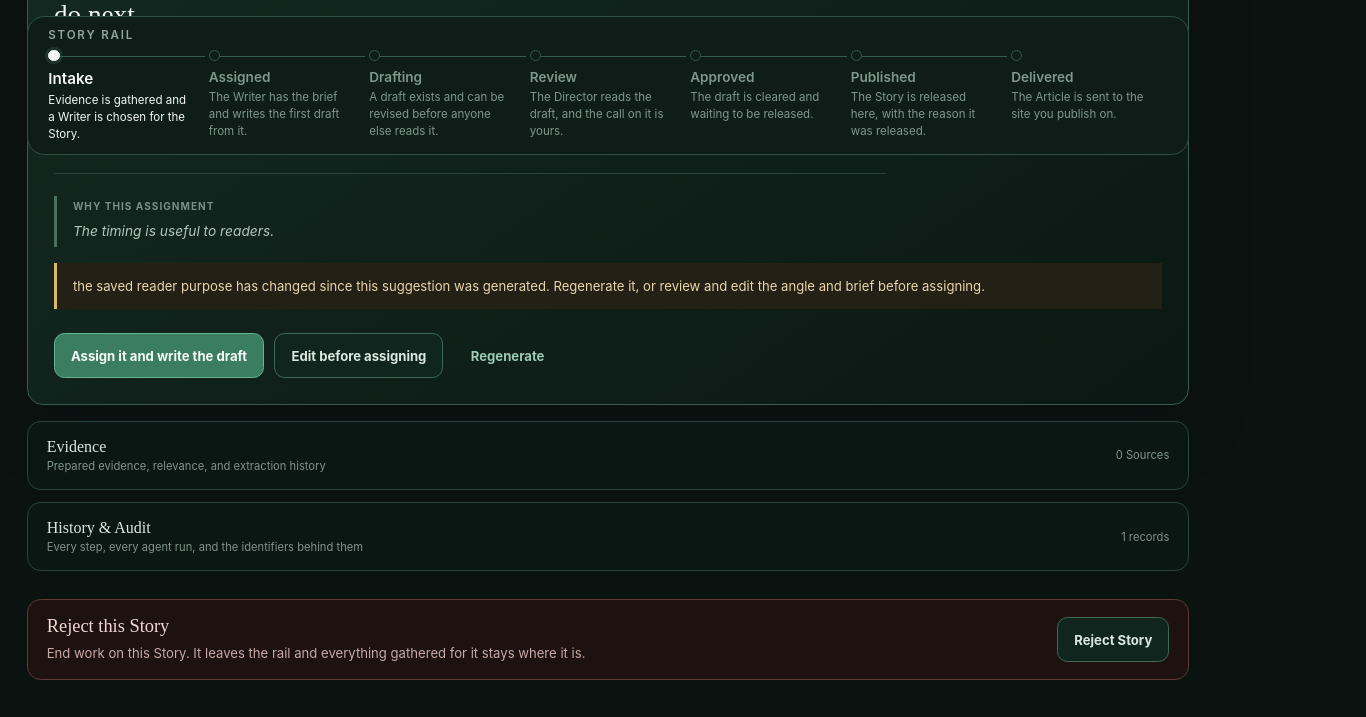
Test: what the Story workspace tells someone who is only watching › marks a saved purpose change while preserving the historical suggestion for editing
This screenshot has width=1366, height=717.
(page scrolled)
Check: the message shows "the saved reader purpose has changed since this suggestion was generated", box [54,263,1162,309]
Click the button "Edit before assigning" at (359, 356), box [274,333,444,378]
(page scrolled)
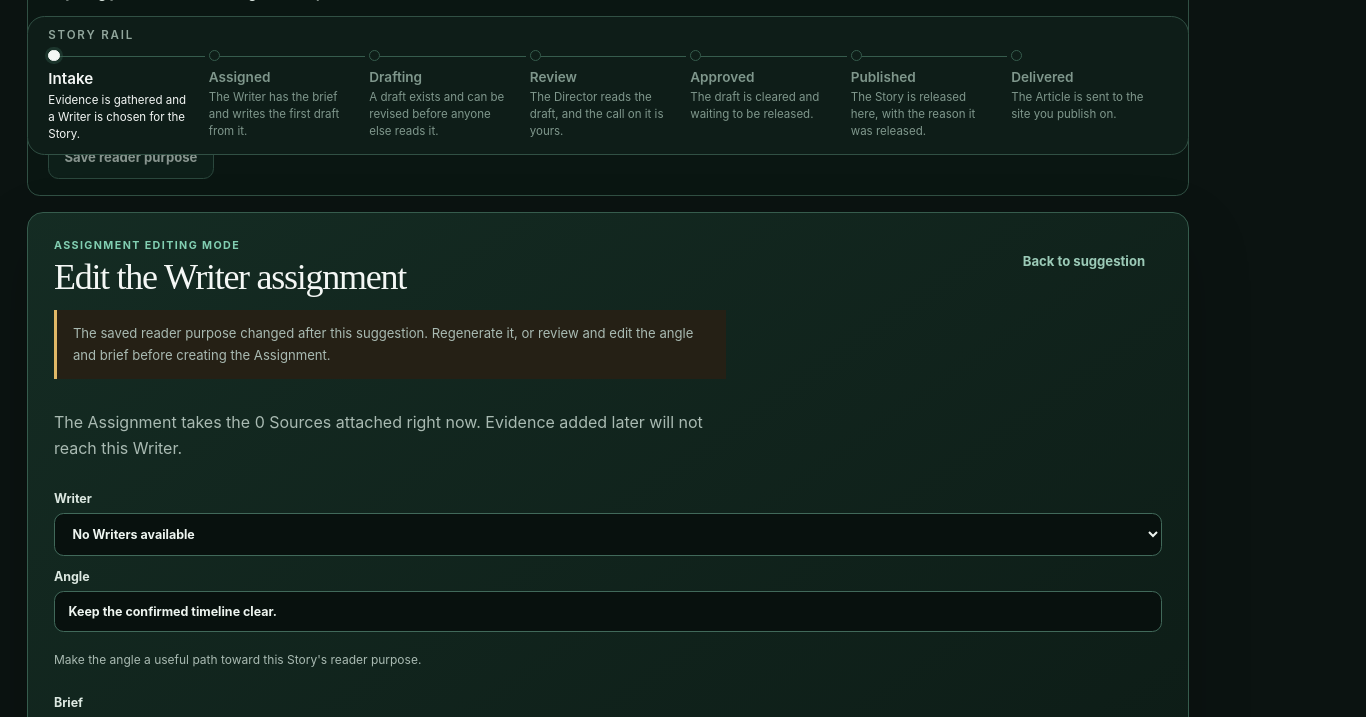
Check: the field labelled "Angle" holds "Keep the confirmed timeline clear.", box [54,591,1162,632]
Check: the text "The saved reader purpose changed after this suggestion" is shown, box [73,325,693,363]
